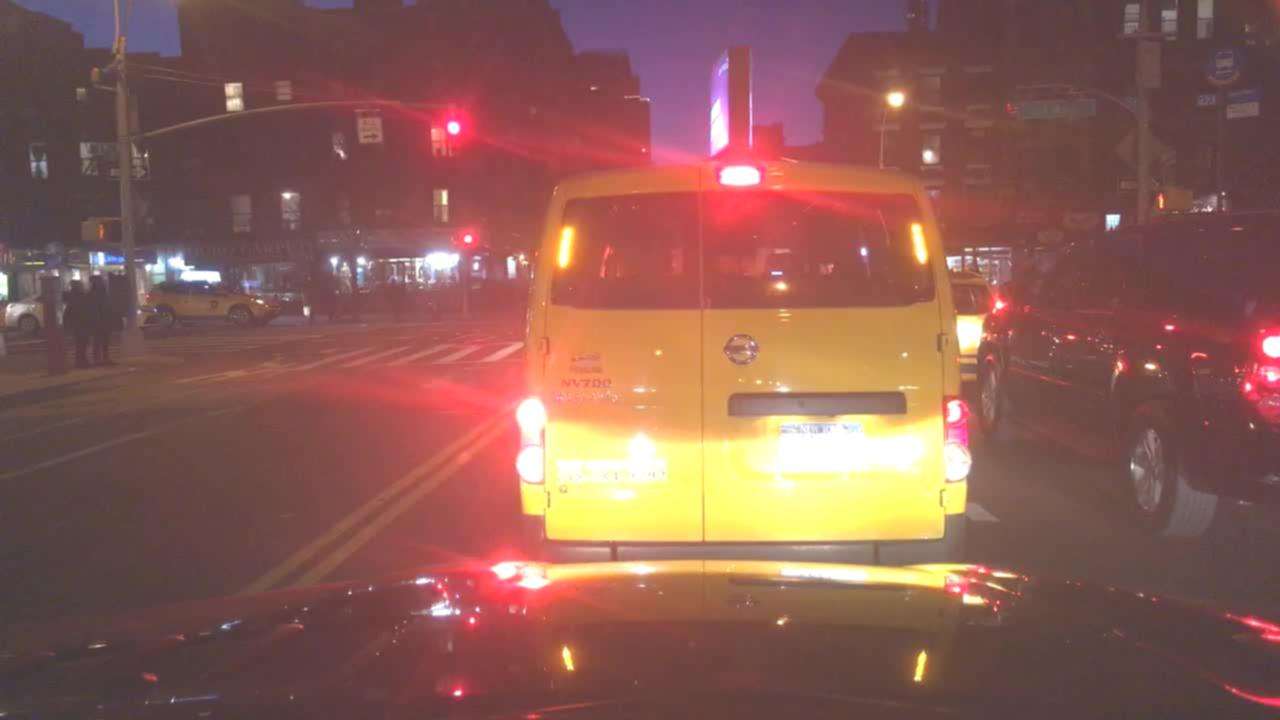Nissan: (716, 329, 765, 371)
